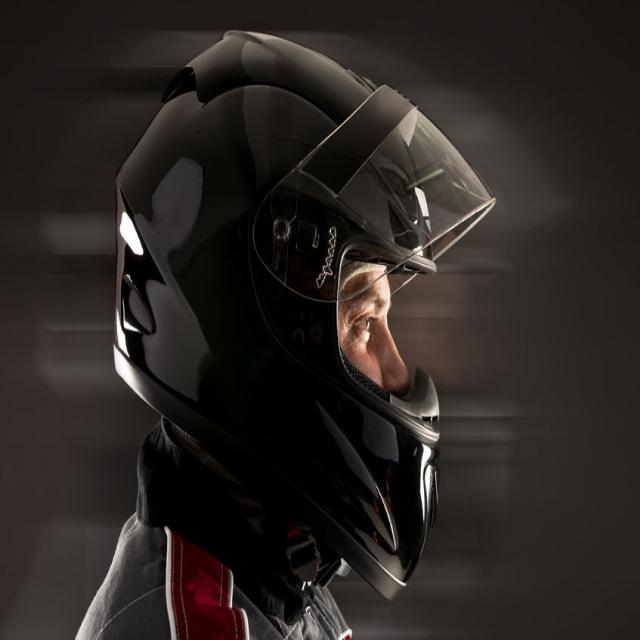Helm: (108, 25, 496, 598)
